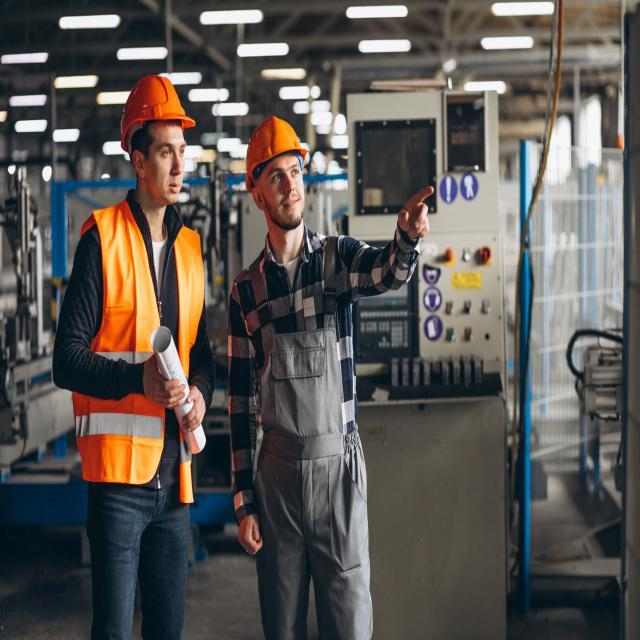helmet: (117, 64, 202, 147), (236, 116, 313, 196)
jacket: (90, 201, 213, 486)
